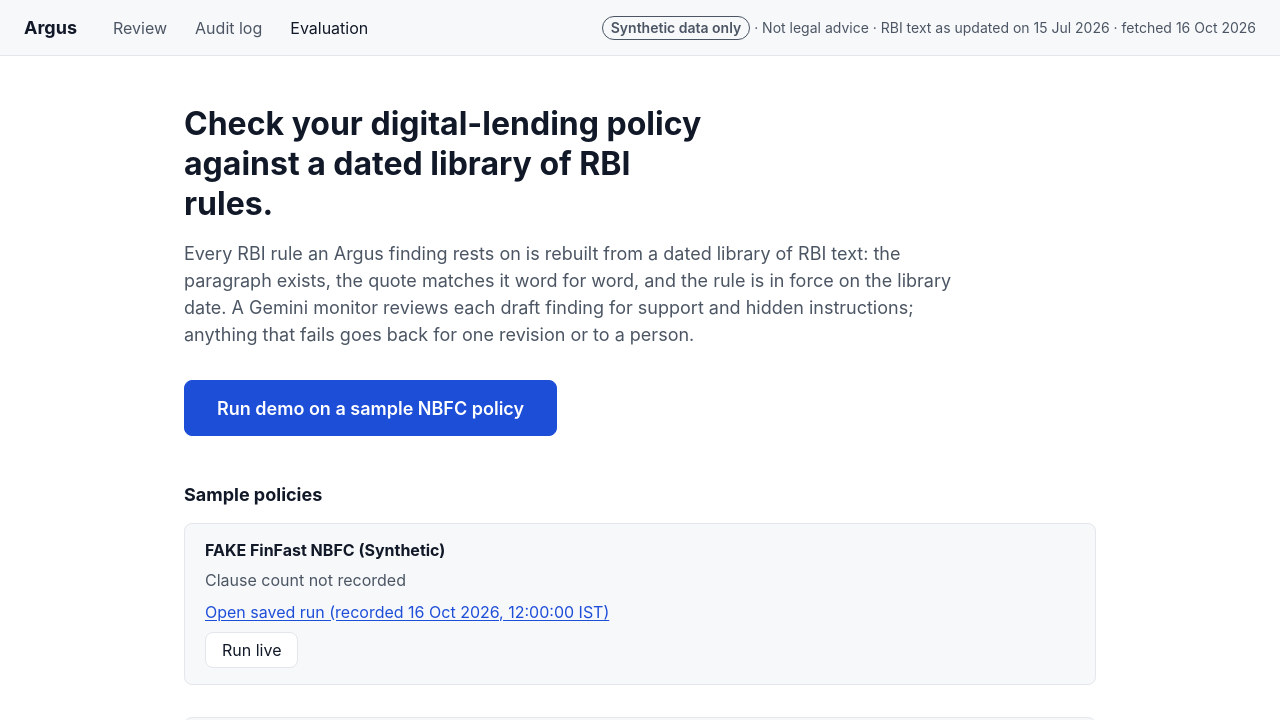
Test: App › reports a run that was never started once, in the shell banner, not again in the Review screen
Click the button "Run demo on a sample NBFC policy" at (371, 408), box top-left (184, 380), bottom-right (557, 436)
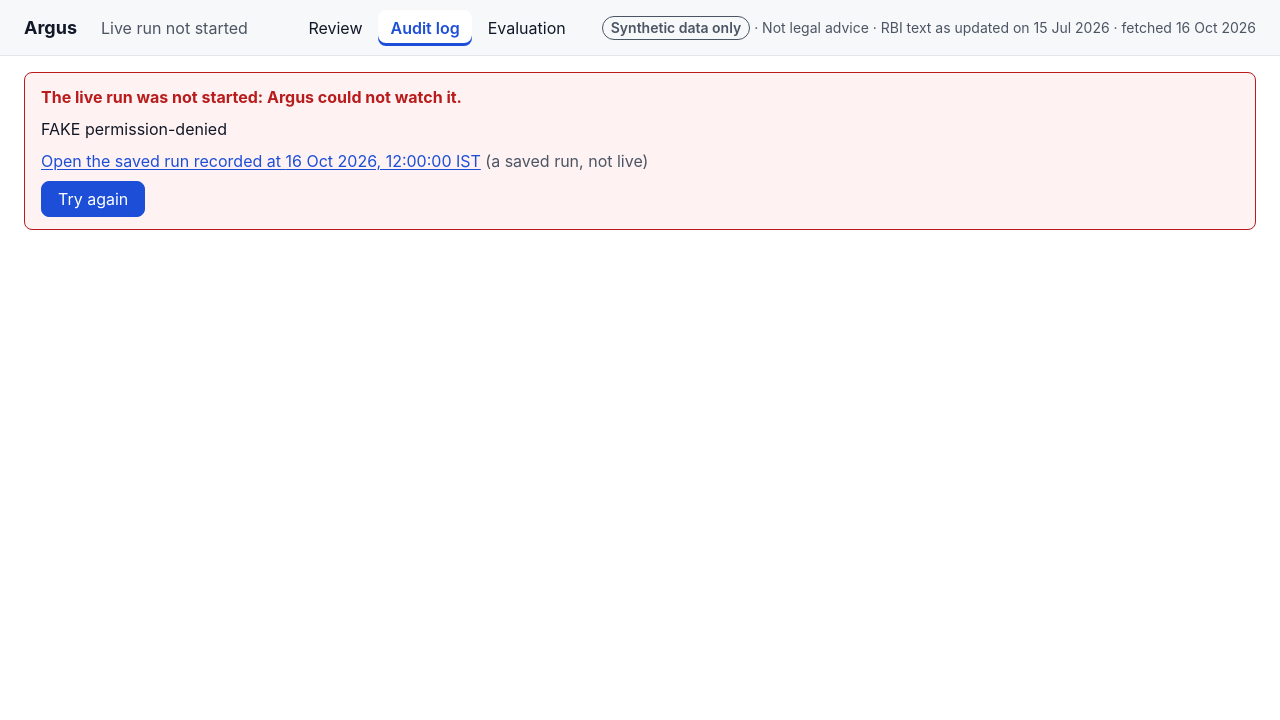
expect the message shows "The live run was not started": met, box top-left (41, 87), bottom-right (462, 107)
expect the message shows "FAKE permission-denied": met, box top-left (41, 119), bottom-right (227, 139)
expect the number of messages is 1: met, box top-left (24, 72), bottom-right (1256, 230)
